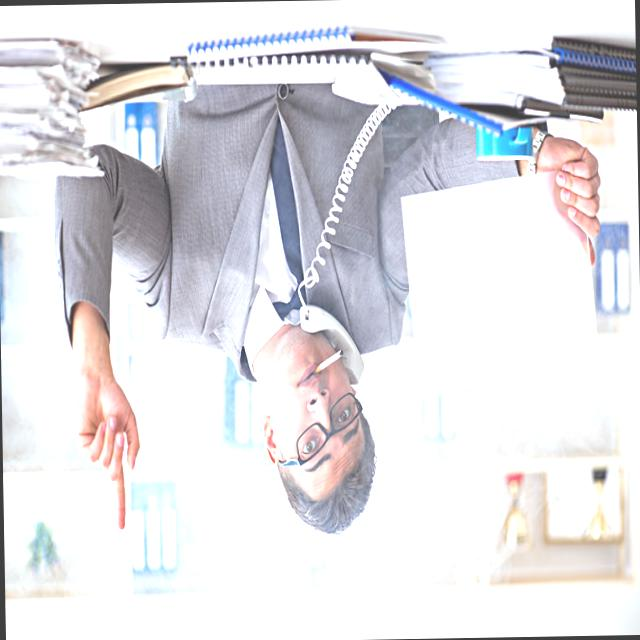smoke: (315, 346, 344, 374)
